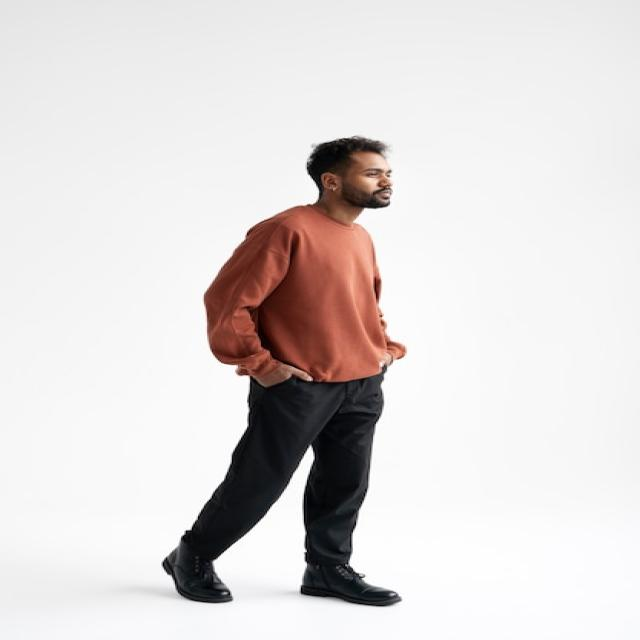Person: (159, 136, 405, 604)
